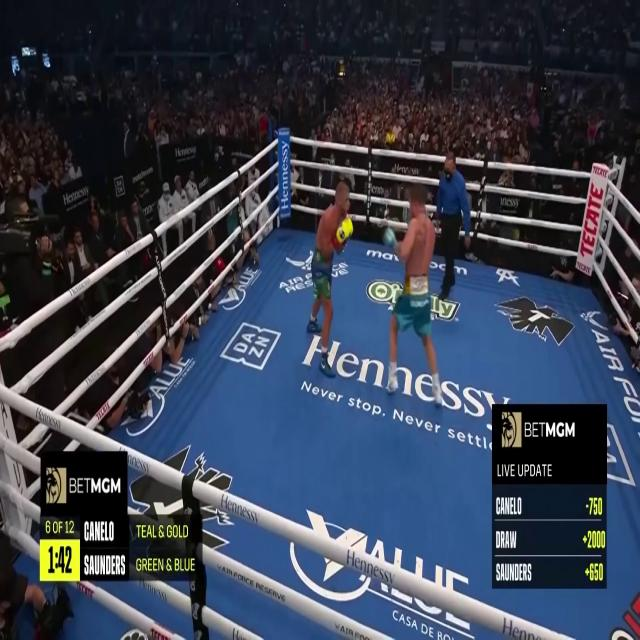boxer_1: (316, 182, 351, 254)
boxer_2: (405, 184, 435, 276)
gloves_1: (332, 218, 354, 249)
gloves_2: (383, 229, 398, 251)
